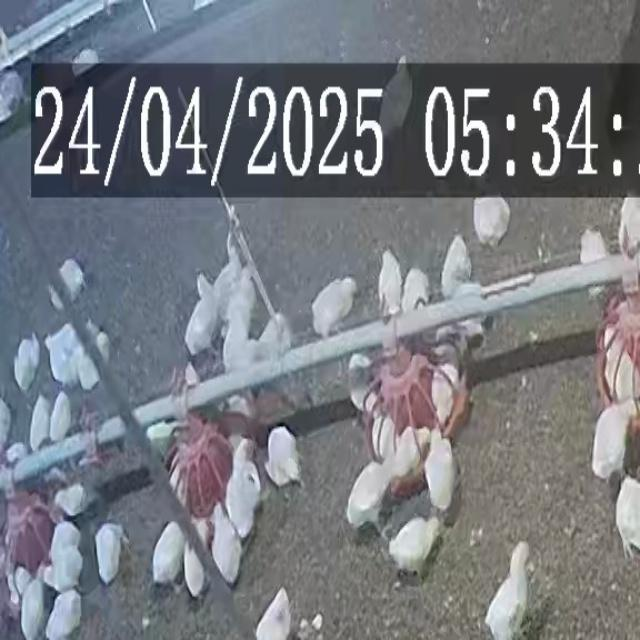chicken: (481, 537, 535, 640), (344, 452, 400, 538), (386, 514, 442, 578), (308, 272, 362, 338), (225, 442, 262, 536), (590, 401, 634, 480), (426, 341, 462, 427), (209, 502, 245, 588), (422, 430, 458, 515), (46, 520, 85, 594), (601, 336, 636, 404), (265, 425, 302, 488), (152, 522, 186, 586), (94, 522, 128, 586), (387, 426, 421, 486), (440, 236, 472, 298), (12, 331, 42, 397), (255, 588, 292, 639), (472, 197, 511, 245), (376, 248, 403, 316), (44, 589, 80, 640), (19, 579, 46, 639), (401, 266, 430, 316), (183, 540, 206, 598), (372, 413, 397, 466), (29, 394, 53, 449), (57, 258, 86, 302), (48, 393, 72, 444)
